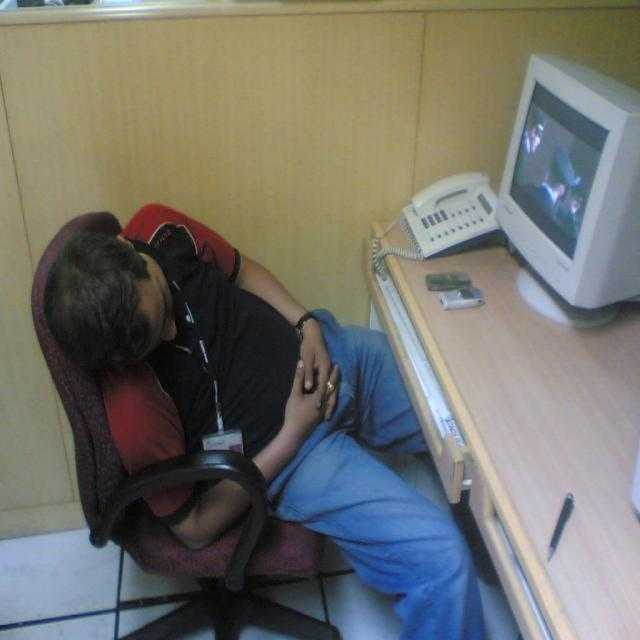chair: (32, 231, 337, 640)
desk: (364, 220, 638, 637)
person: (34, 207, 497, 640)
tv: (494, 53, 640, 314)
